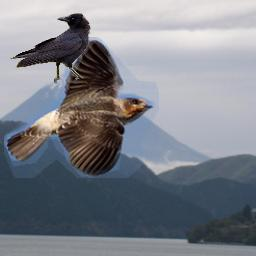Crow: (9, 13, 91, 84)
Swallow: (4, 37, 159, 178)
